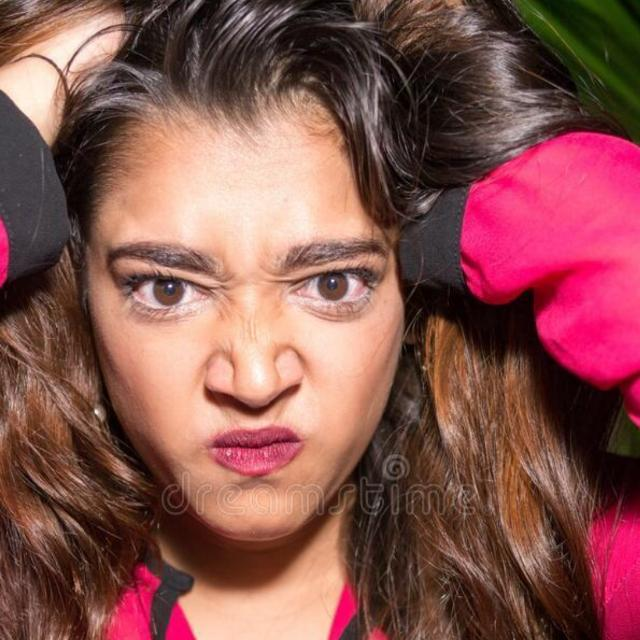Angry: (34, 39, 438, 574)
